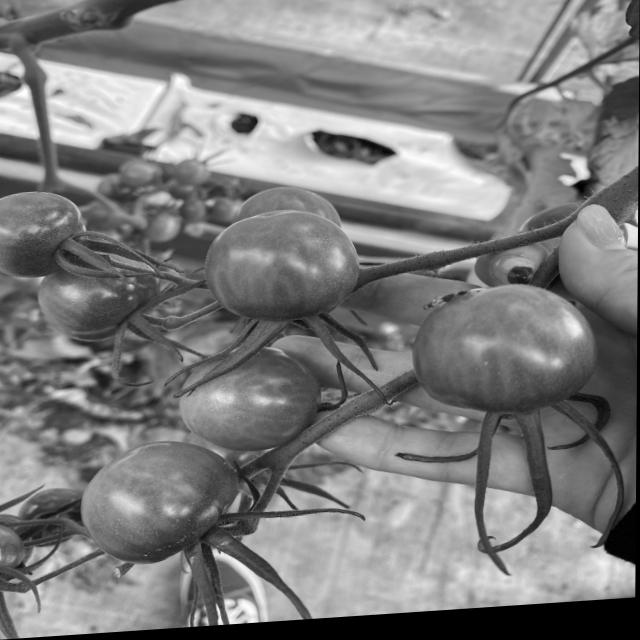yesil: (161, 177, 592, 453), (39, 412, 285, 608)
